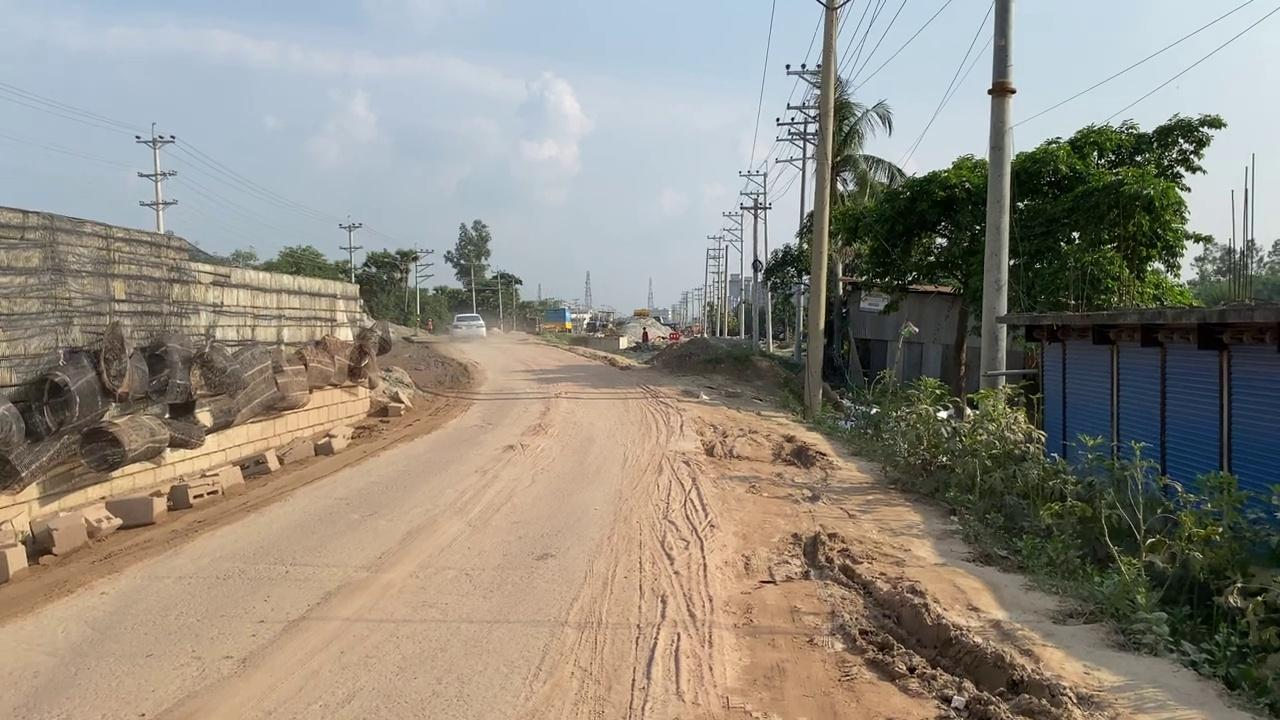Car: (449, 312, 487, 339)
Muddy road: (1, 325, 1261, 718)
Obstacle: (104, 493, 155, 528)
Pole: (802, 0, 844, 422), (977, 0, 1015, 403)
Traffic-sign: (761, 61, 909, 382), (442, 217, 491, 314)
Upstairs: (0, 203, 383, 566)
